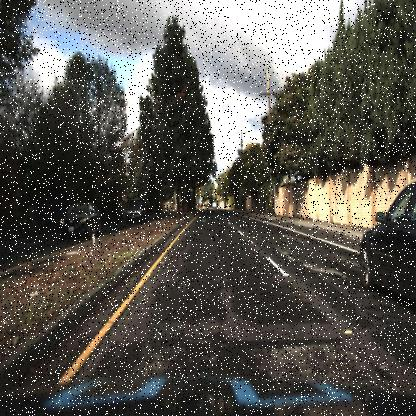car: (359, 178, 415, 298), (55, 199, 101, 243), (59, 201, 103, 245), (126, 199, 142, 220)
